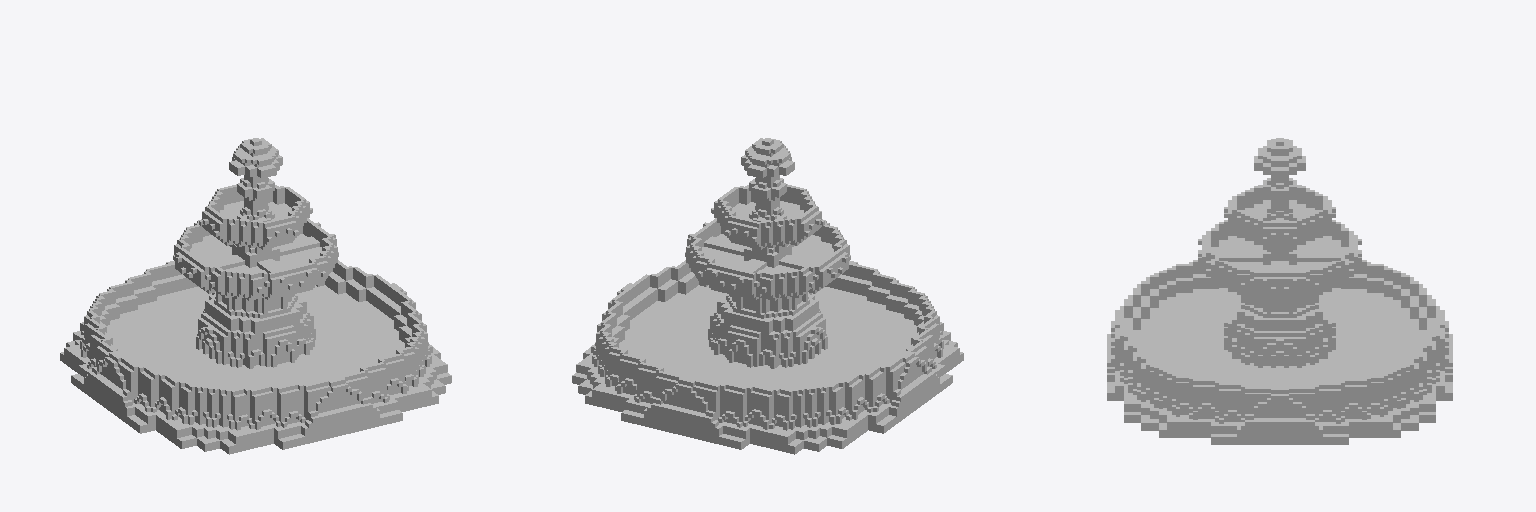
The model's file is Fountain m vand Final.obj.
The picture shows the model from 3 angles: view 1: azimuth 30°, elevation 25°; view 2: azimuth 150°, elevation 25°; view 3: azimuth 270°, elevation 25°; orthographic projection.
Visible parts, largest first — view 1: object 1; view 2: object 1; view 3: object 1.
Part boxes in pixels (x1,y1,x2,y2): object 1: (60,138,451,454); object 1: (572,138,963,454); object 1: (1107,138,1452,444).
Size of the model in its own units: 8 by 5.9 by 8.